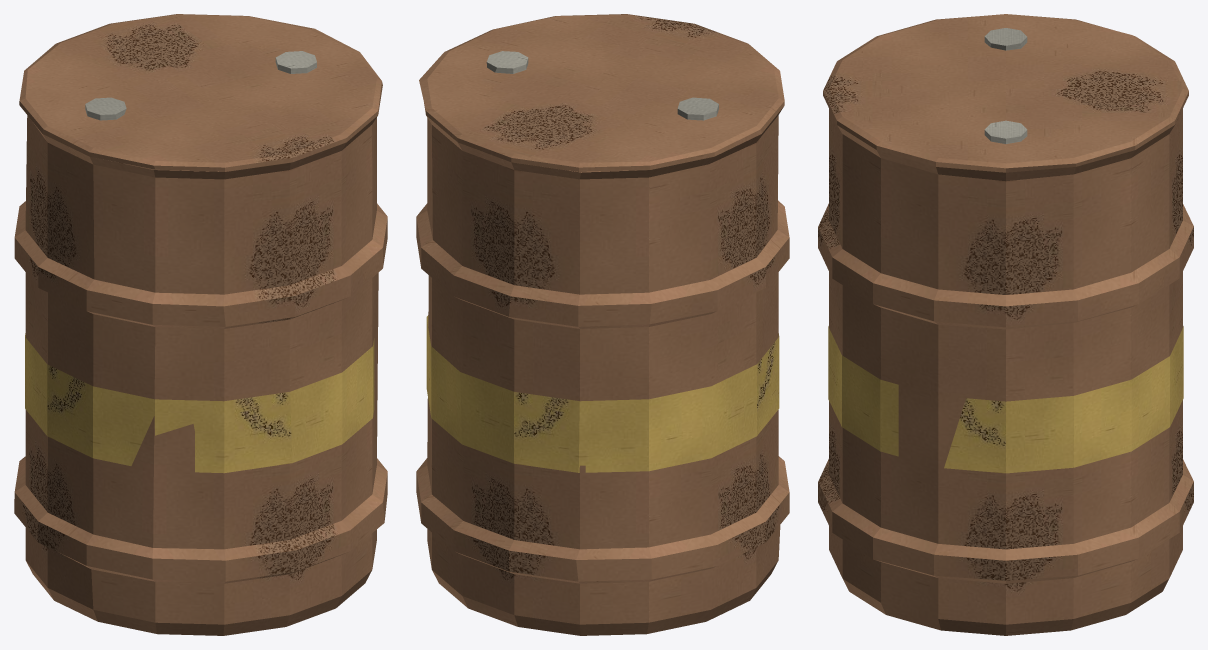
The model's file is barrel_v2.glb.
The picture shows the model from 3 angles, left to right: view 1: azimuth 30°, elevation 25°; view 2: azimuth 150°, elevation 25°; view 3: azimuth 270°, elevation 25°; orthographic projection.
Visible parts, largest first — view 1: Variant_barrel_2; view 2: Variant_barrel_2; view 3: Variant_barrel_2.
Part boxes in pixels (<box>): Variant_barrel_2: <box>14,14,387,635</box>; Variant_barrel_2: <box>416,14,789,635</box>; Variant_barrel_2: <box>818,14,1193,635</box>.
Bounding box in the file's own units: 0.616 × 0.87 × 0.616.
3 materials, 3 textured.
